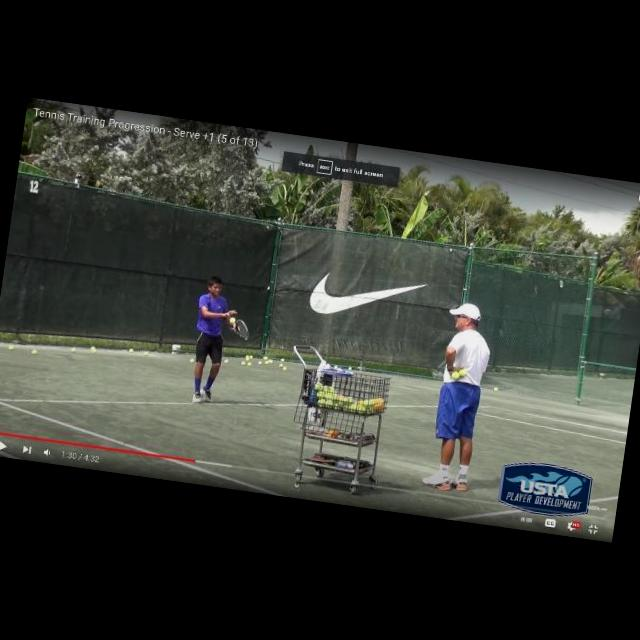Tennis Ball: (451, 371, 460, 380), (128, 348, 134, 354), (8, 346, 14, 352), (32, 349, 38, 355), (279, 362, 284, 368), (257, 360, 262, 366), (246, 361, 252, 366), (143, 350, 148, 356), (91, 348, 96, 354), (241, 360, 246, 365), (224, 359, 229, 364), (494, 386, 498, 392), (190, 358, 194, 363), (71, 348, 76, 352), (348, 367, 352, 371), (264, 360, 268, 364), (246, 358, 249, 362), (281, 359, 284, 362), (264, 357, 267, 360), (250, 356, 253, 359), (270, 361, 272, 364), (283, 368, 286, 370)
